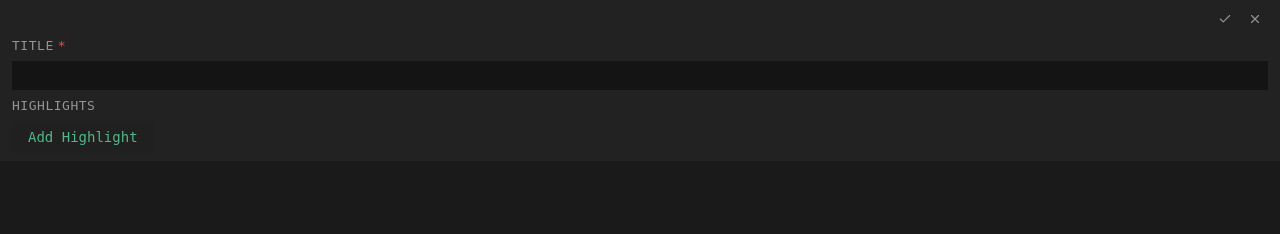
EntryForm › handles highlights field as dynamic list via useFieldArray
Expected: the text "Highlights" is shown, top-left (12, 98), bottom-right (96, 113)
Click the button "Add Highlight": (83, 137) top-left (12, 121), bottom-right (154, 153)
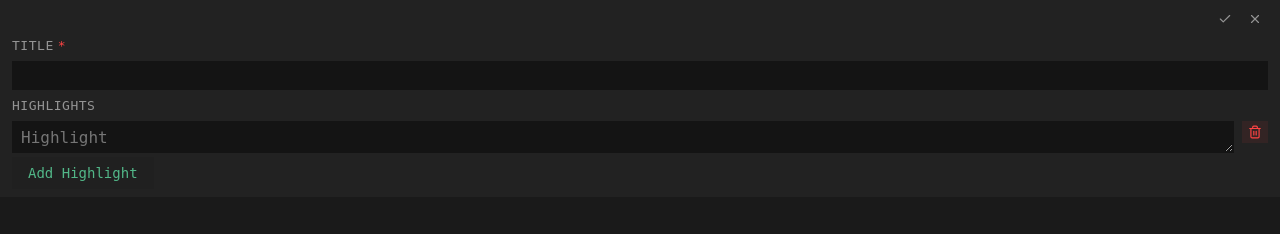
Expected: the number of text boxes with placeholder "Highlight" is 1
In the text box with placeholder "Highlight": (623, 137) top-left (12, 121), bottom-right (1234, 153), type "Led team of 5 engineers"
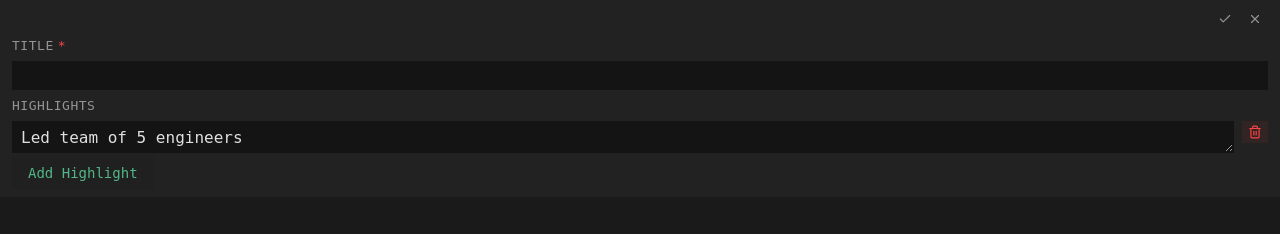
Click the button "Add Highlight": (83, 173) top-left (12, 157), bottom-right (154, 189)
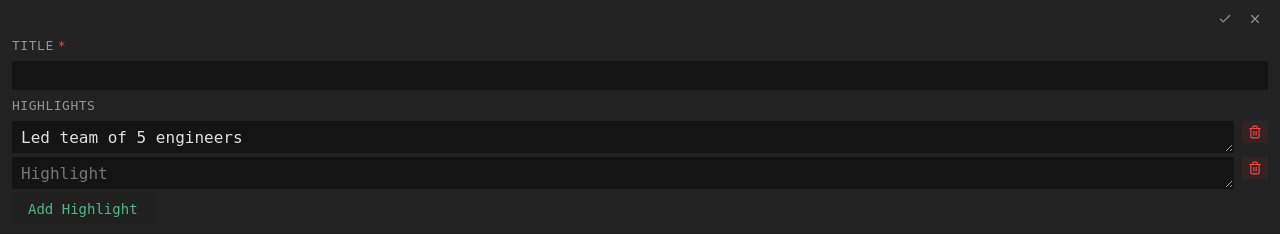
Expected: the number of text boxes with placeholder "Highlight" is 2, top-left (12, 121), bottom-right (1234, 153); top-left (12, 157), bottom-right (1234, 189)
